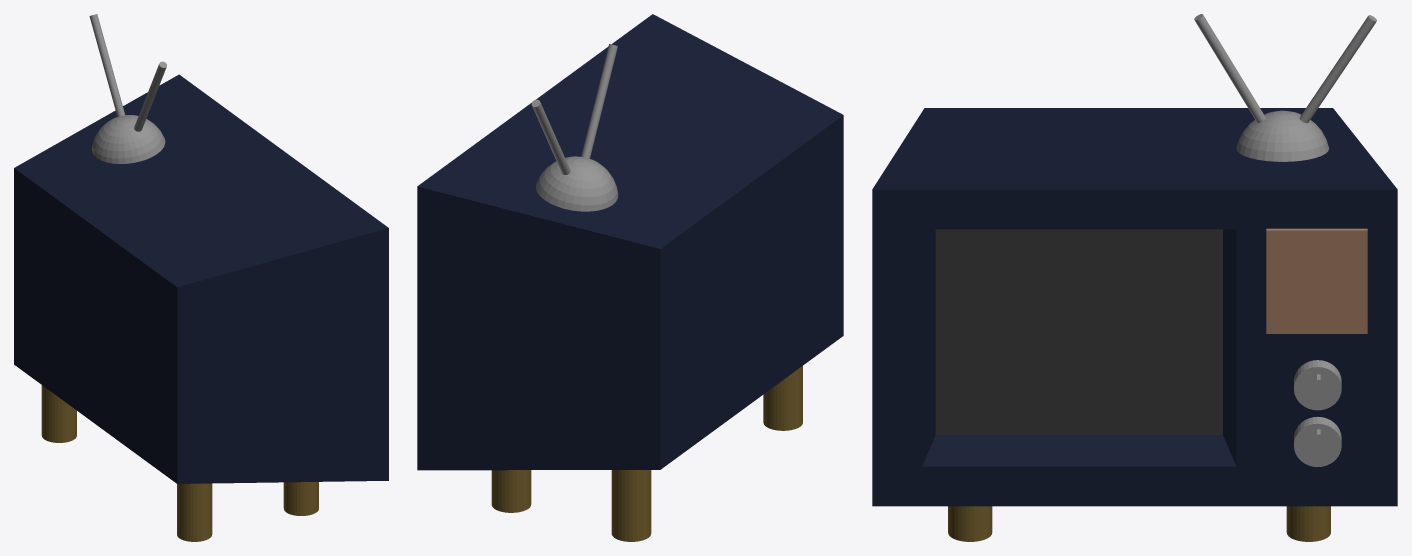
3 renders of one model, left to right at view 1: azimuth 30°, elevation 25°; view 2: azimuth 150°, elevation 25°; view 3: azimuth 270°, elevation 25°, orthographic. The views are drawn at different scales.
Parts seen in each view (by area): view 1: Cube, Sphere, Cylinder.007, Cylinder.006, Cylinder.004, Cylinder.003, Cylinder.002; view 2: Cube, Sphere, Cylinder.006, Cylinder.007, Cylinder.005, Cylinder.002, Cylinder.003; view 3: Cube, Cube.003, Sphere, Cylinder, Cylinder.001, Cylinder.004, Cylinder.005, Cylinder.003, Cylinder.002.
Part boxes in pixels (<box>): Cube: <box>14,74,388,483</box>; Sphere: <box>92,115,165,163</box>; Cylinder.007: <box>177,483,212,541</box>; Cylinder.006: <box>41,385,76,442</box>; Cylinder.004: <box>283,482,318,515</box>; Cylinder.003: <box>89,14,125,116</box>; Cylinder.002: <box>134,61,166,131</box>; Cube: <box>417,14,843,470</box>; Sphere: <box>536,156,618,211</box>; Cylinder.006: <box>611,470,651,541</box>; Cylinder.007: <box>763,366,802,430</box>; Cylinder.005: <box>491,470,531,512</box>; Cylinder.002: <box>581,44,617,158</box>; Cylinder.003: <box>531,99,570,174</box>; Cube: <box>872,108,1397,506</box>; Cube.003: <box>1266,228,1367,333</box>; Sphere: <box>1236,110,1328,161</box>; Cylinder: <box>1294,360,1341,410</box>; Cylinder.001: <box>1294,416,1341,466</box>; Cylinder.004: <box>948,506,992,541</box>; Cylinder.005: <box>1286,506,1330,541</box>; Cylinder.003: <box>1299,15,1376,122</box>; Cylinder.002: <box>1194,14,1265,122</box>.
Bounding box in the file's own units: 202 × 357 × 348.
